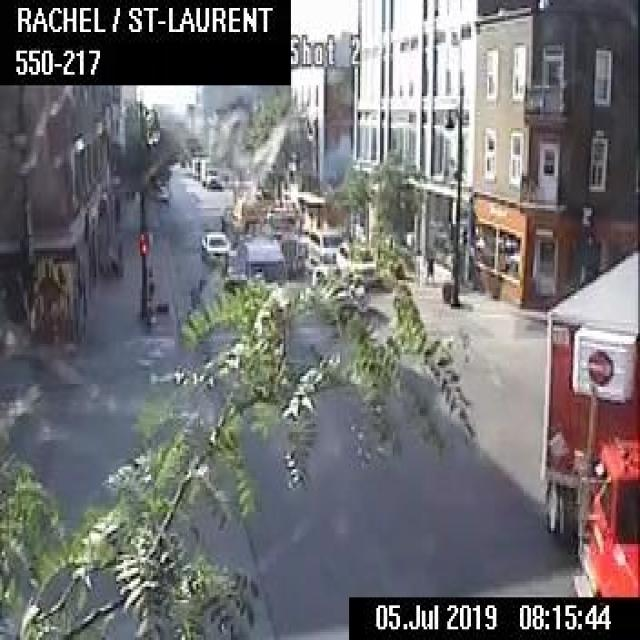vehicle: (536, 248, 638, 592), (238, 231, 285, 289), (337, 240, 376, 286), (309, 228, 341, 268), (200, 230, 228, 262), (198, 158, 222, 190), (154, 178, 166, 205)
